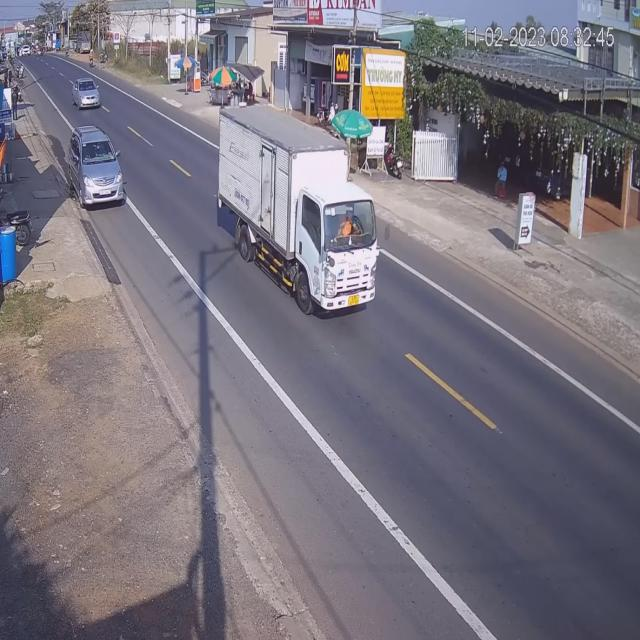car: (66, 125, 126, 209), (74, 78, 102, 113)
truck: (218, 103, 381, 314)
